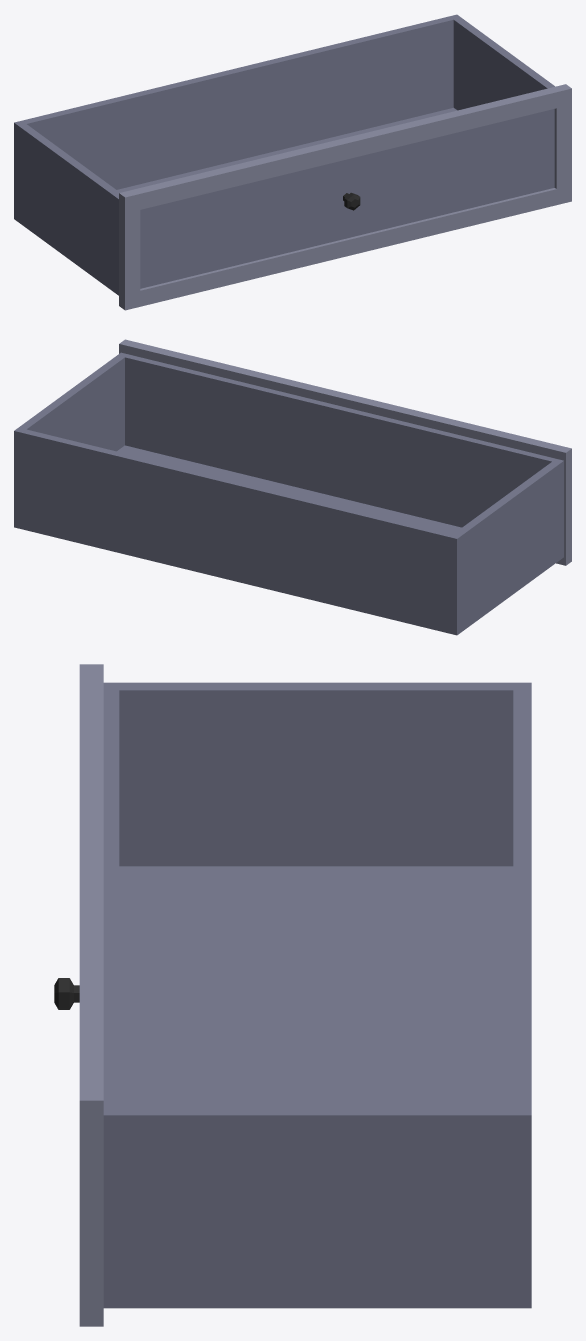
The model's file is Dresser4_C2_02.fbx.
3 views of the same model, one above another, from view 1: azimuth 30°, elevation 25°; view 2: azimuth 150°, elevation 25°; view 3: azimuth 270°, elevation 25° (orthographic). The views are drawn at different scales.
Visible parts, largest first — view 1: Dresser4_C2_02; view 2: Dresser4_C2_02; view 3: Dresser4_C2_02.
Part boxes in pixels (x1,y1,x2,y2): Dresser4_C2_02: (14,14,571,310); Dresser4_C2_02: (14,339,571,635); Dresser4_C2_02: (54,664,531,1326).
Size of the model in its own units: 85.7 by 20.7 by 39.65.
